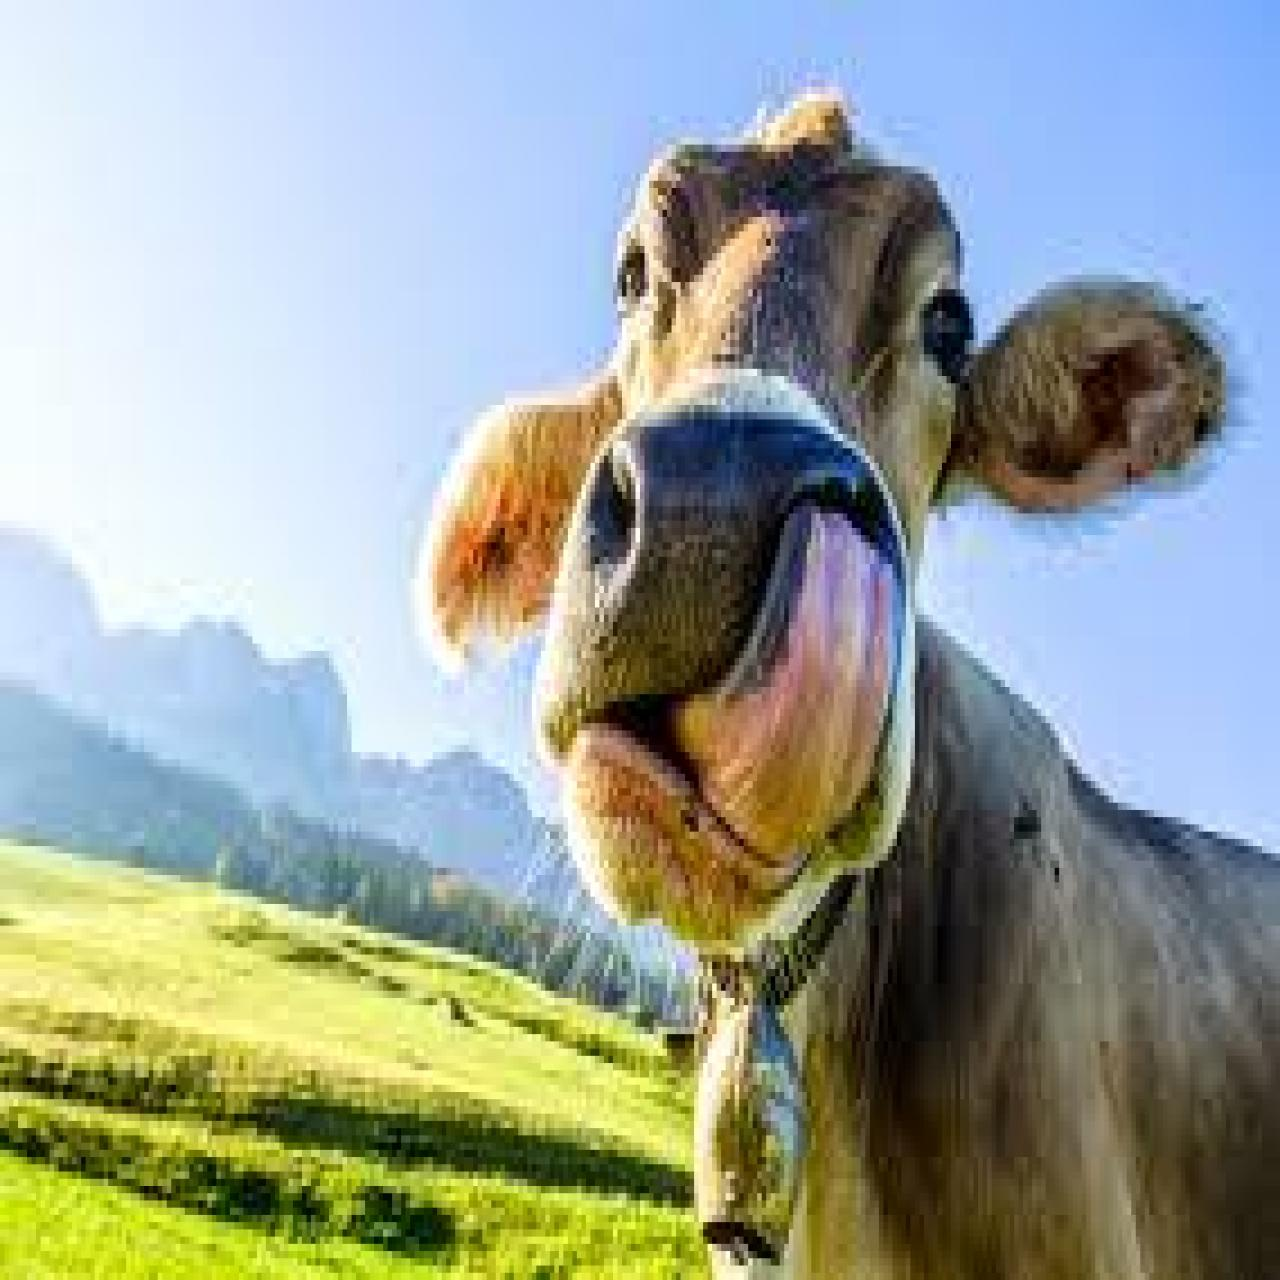cow: (418, 87, 1280, 1280)
